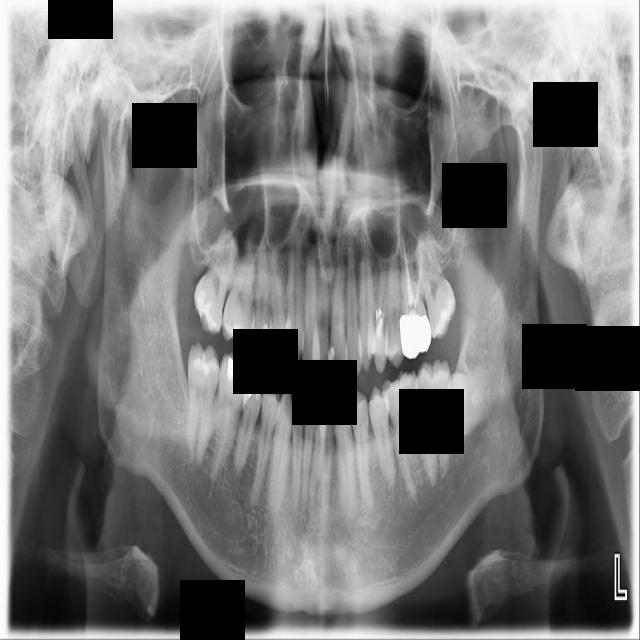52: (216, 355, 263, 399), (398, 308, 433, 361), (191, 288, 220, 332), (189, 350, 221, 381), (434, 295, 456, 335), (327, 345, 336, 375), (374, 306, 383, 323), (262, 323, 270, 338)
73: (398, 227, 427, 317), (617, 608, 631, 624)
BioHorizons Implant: (407, 228, 465, 343)
Biomet 3i Implant: (443, 360, 491, 442)
Blue Sky Bio Implant: (415, 358, 451, 485)
Caries: (185, 222, 243, 337)
Implant: (183, 341, 221, 464)
